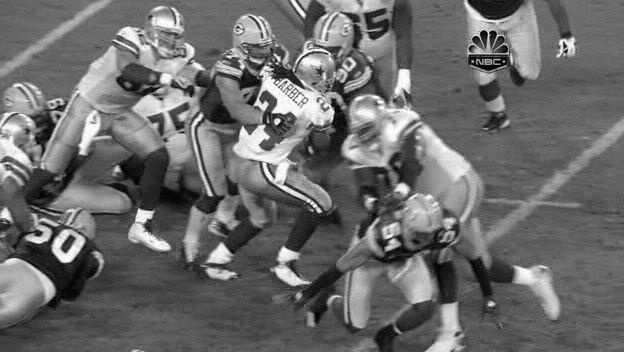person: (300, 52, 335, 97), (299, 52, 334, 97), (301, 52, 336, 97), (300, 51, 335, 96), (300, 53, 335, 98)
target_negative: (339, 128, 602, 269), (32, 271, 413, 338), (371, 180, 495, 241), (537, 20, 578, 43), (211, 162, 245, 189), (597, 333, 618, 336)
